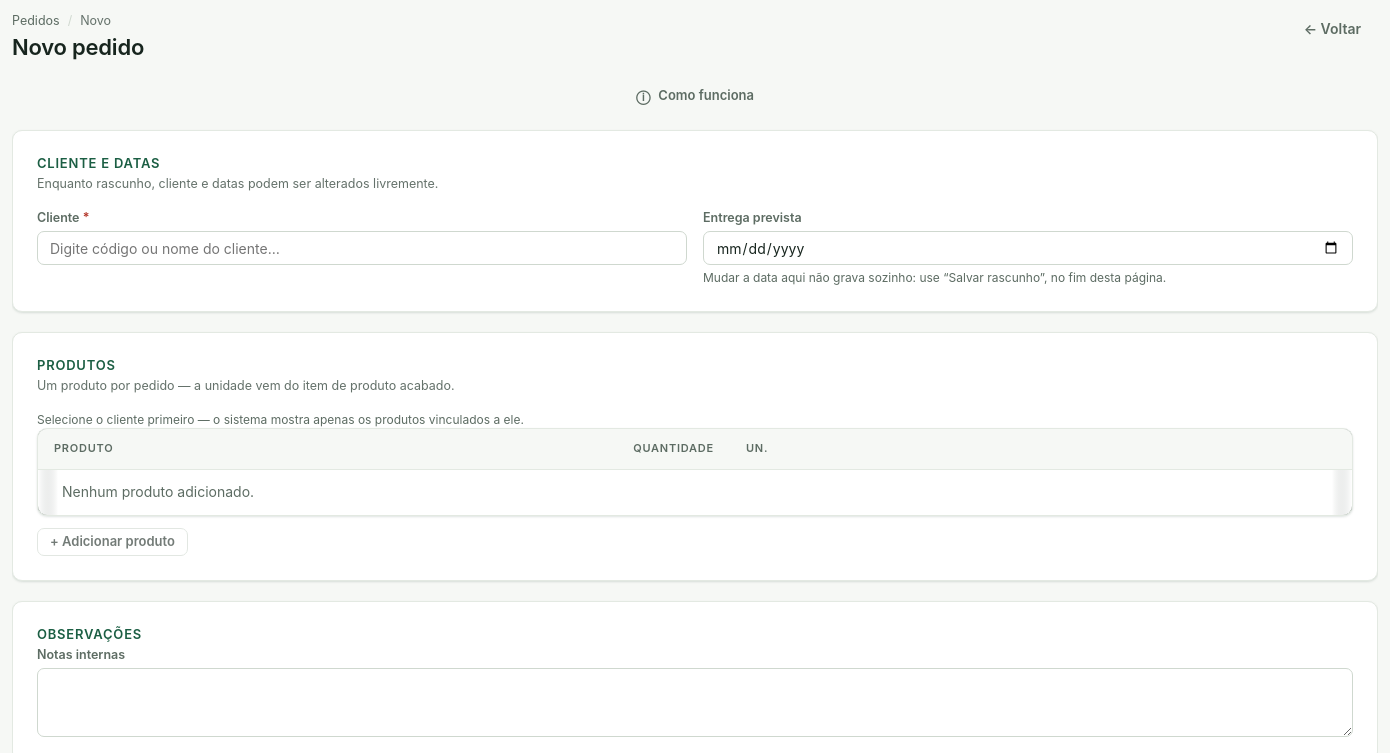
Test: Pedido do Cliente — o produto vem do cliente do pedido › A. sem cliente não há produto a escolher, e a tela diz por quê
Expected: the text "Selecione o cliente primeiro — o sistema mostra apenas os produtos vinculados a ele" is shown, [37,412,524,427]
Expected: the button "+ Adicionar produto" is disabled, [37,528,188,556]
Click the dropdown with id "co-customer": (362, 248) [37,231,687,265]
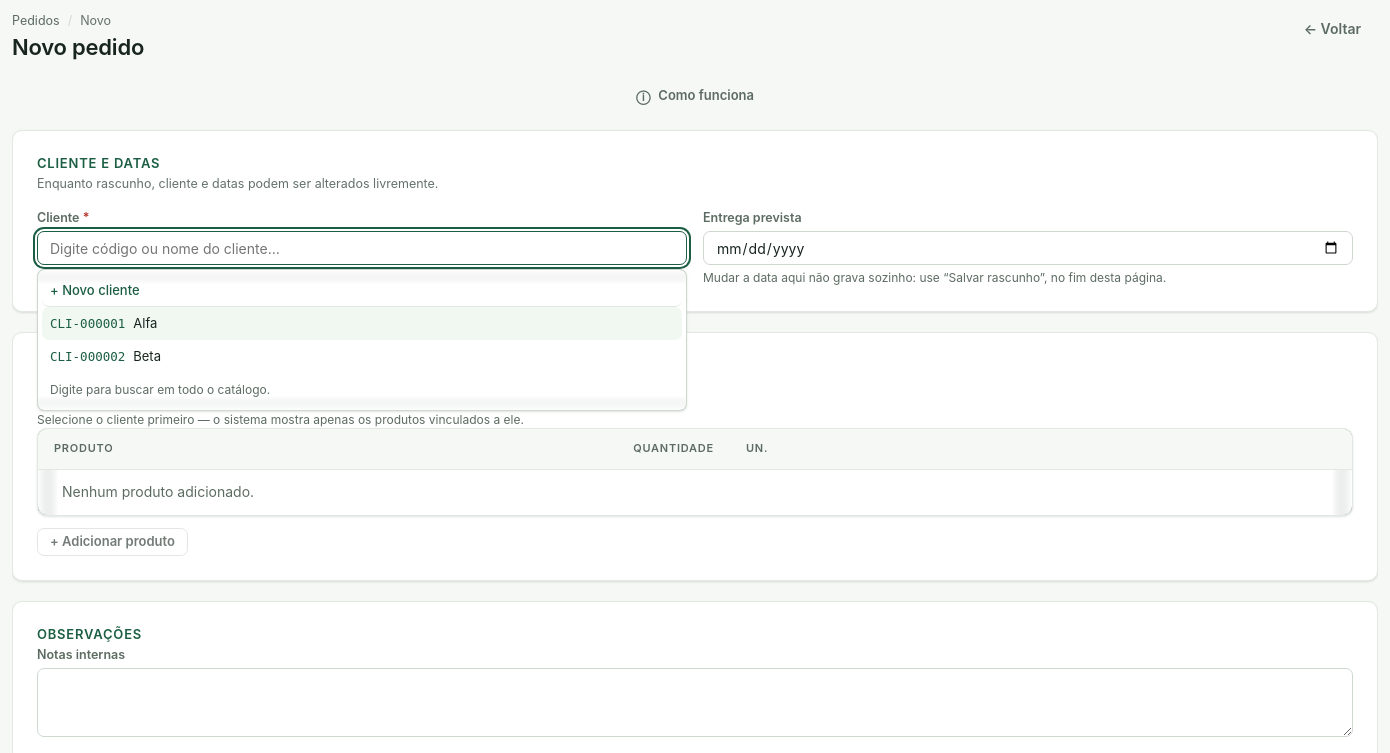
Click the text "Alfa": (145, 323) [133,315,157,331]
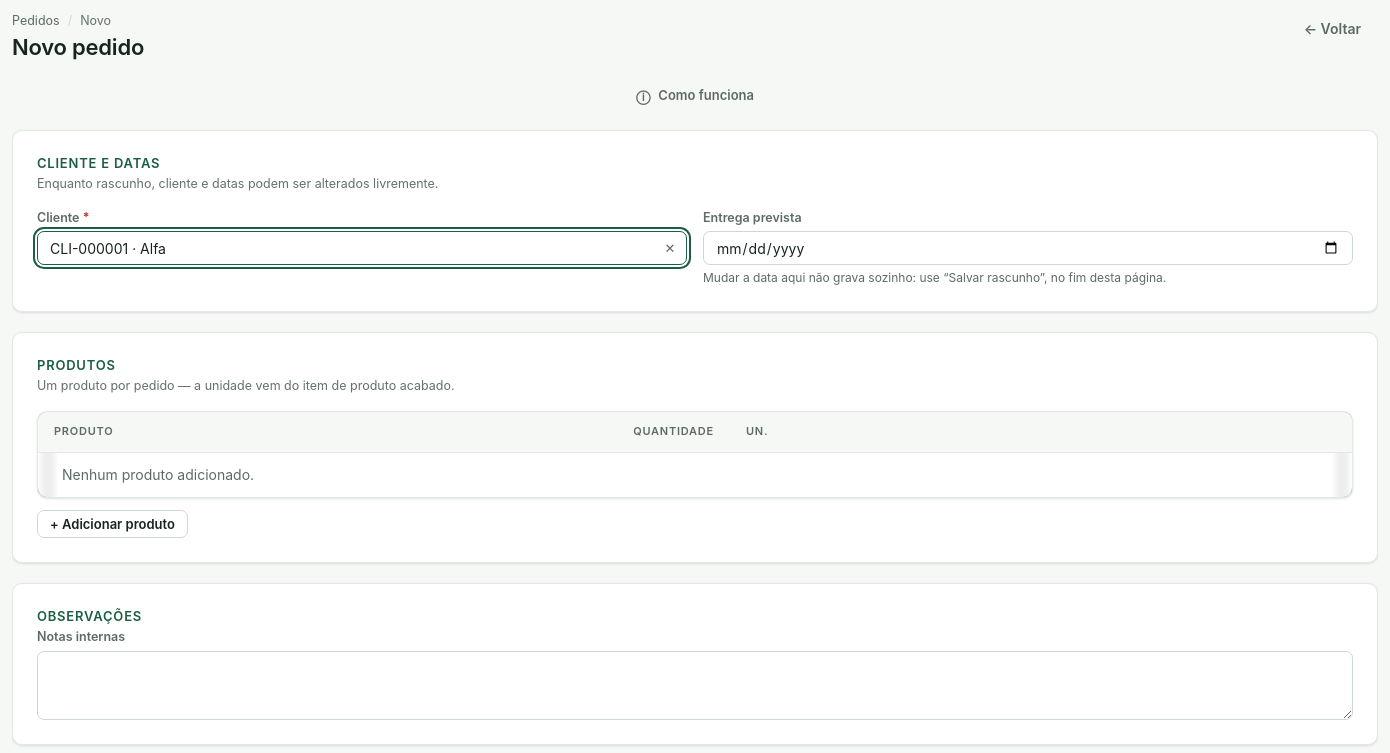
Click the button "+ Adicionar produto": (112, 524) [37,510,188,538]
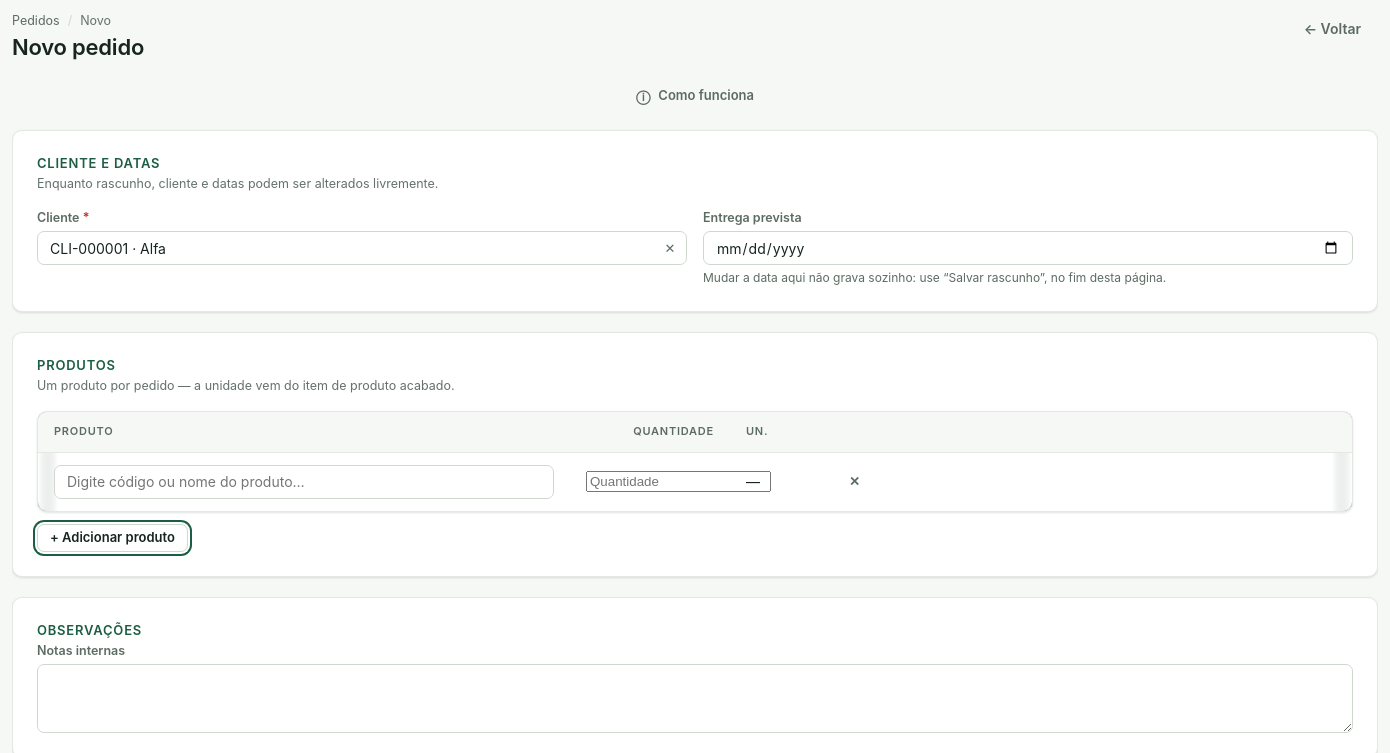
Result: the dropdown with placeholder "Digite código ou nome do produto…" is enabled at [54,465,554,499]
Click the button named "Limpar seleção": (670, 248) [656,234,684,262]
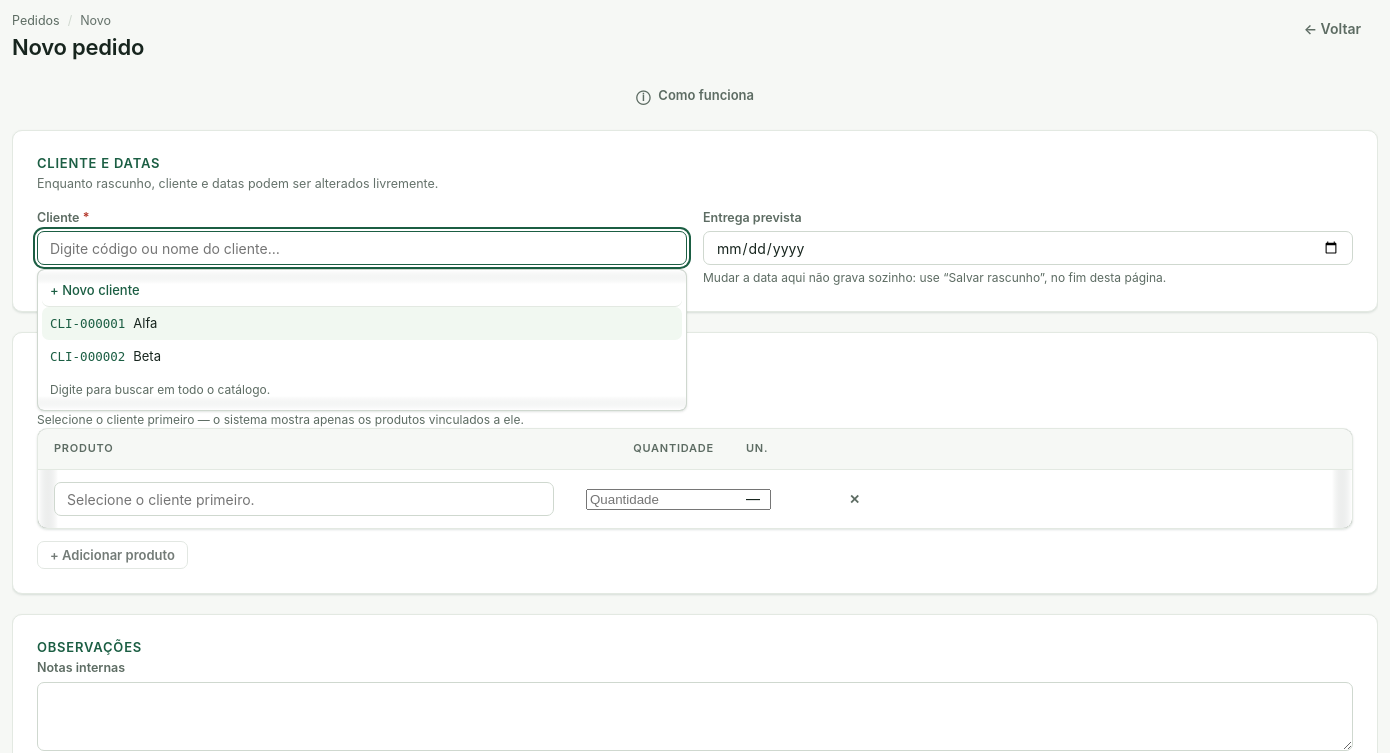
Result: the dropdown with placeholder "Selecione o cliente primeiro." is disabled at [54,482,554,516]
